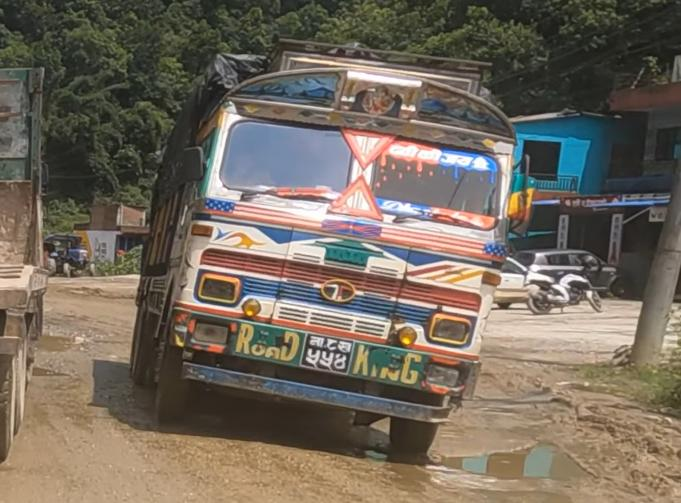bike: (528, 266, 606, 321)
tractor: (41, 231, 97, 282)
truck: (127, 36, 536, 456)
